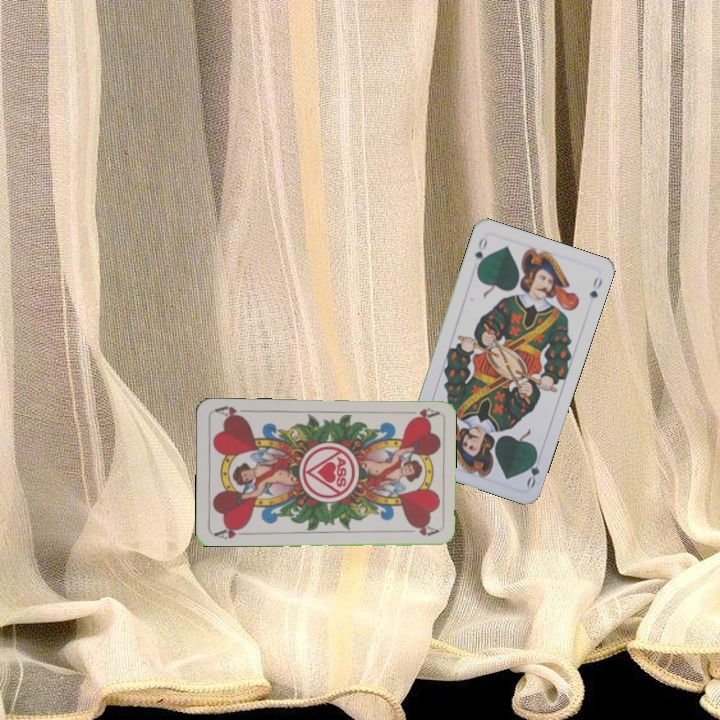GO: (522, 449, 544, 490), (471, 233, 490, 273)
HA: (210, 522, 251, 542), (399, 404, 440, 422)
